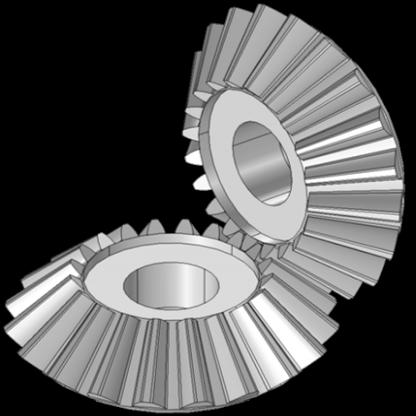FOD: (180, 0, 410, 304), (1, 217, 341, 415)
